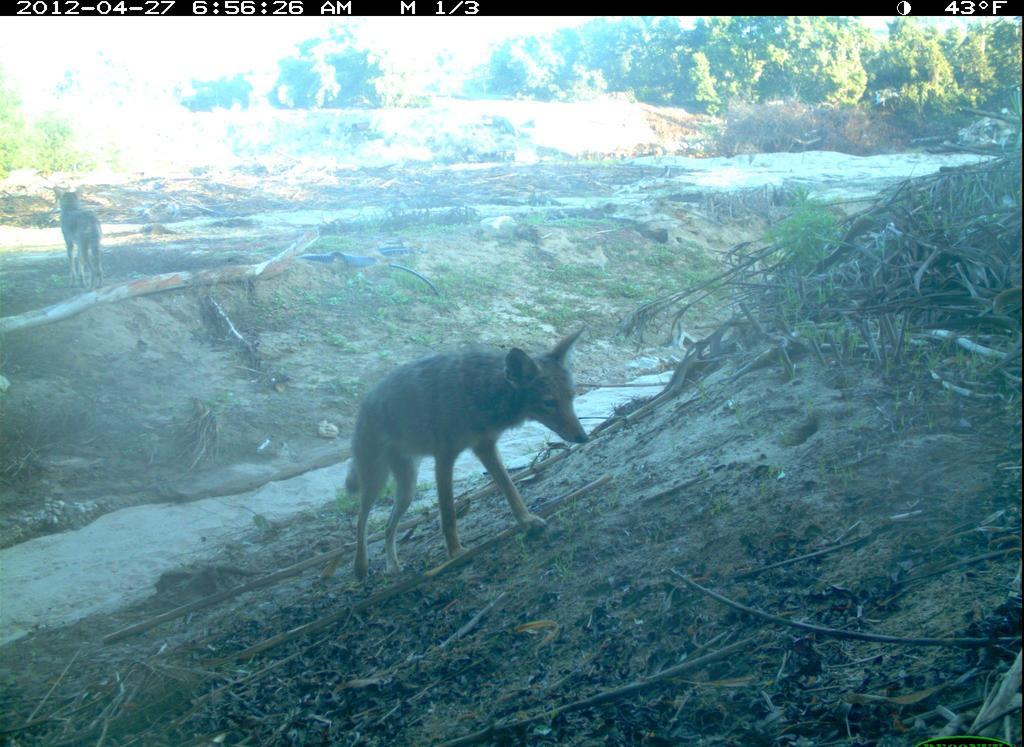coyote: (317, 323, 598, 598), (48, 181, 109, 297)
